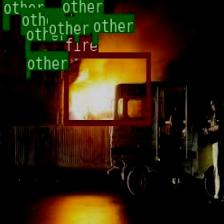fire: (63, 52, 149, 124)
